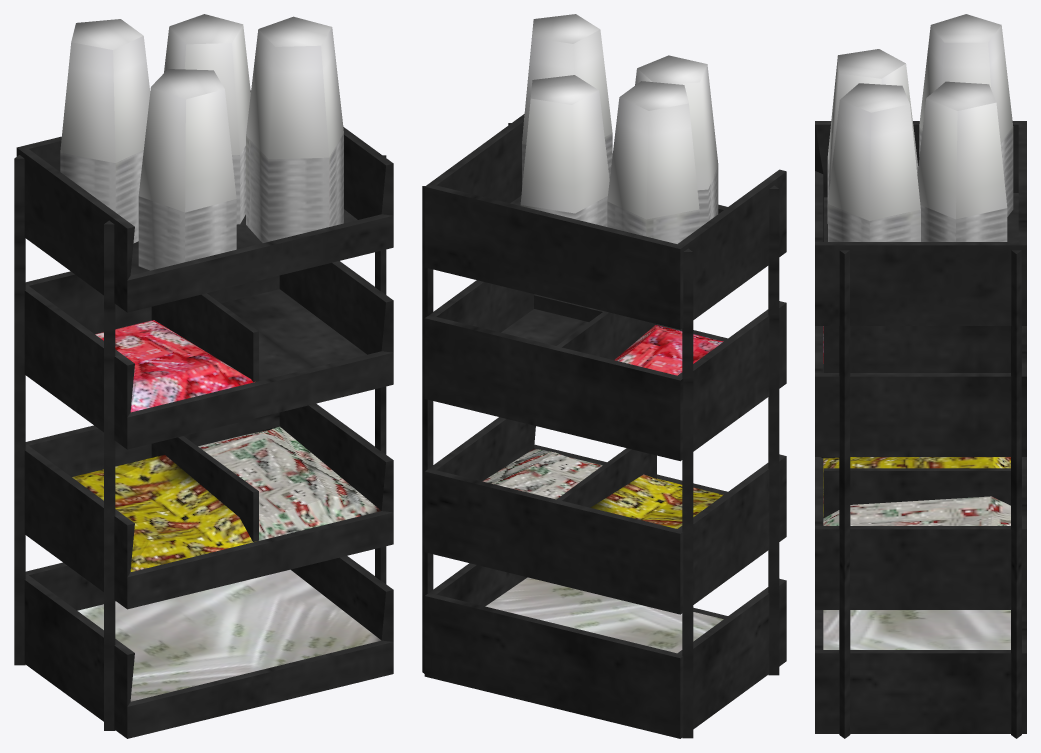
Rendered from gas_others.fbx.
The picture shows the model from 3 angles, left to right: view 1: azimuth 30°, elevation 25°; view 2: azimuth 150°, elevation 25°; view 3: azimuth 270°, elevation 25°; orthographic projection. The views are drawn at different scales.
Parts seen in each view (by area): view 1: gas_others; view 2: gas_others; view 3: gas_others.
Part boxes in pixels (x1=…): gas_others: x1=14, y1=14, x2=393, y2=738; gas_others: x1=422, y1=14, x2=786, y2=738; gas_others: x1=815, y1=14, x2=1026, y2=738.
Size of the model in its own units: 0.4731 by 1.02 by 0.3214.
Materials: 1 (1 with a texture image).
